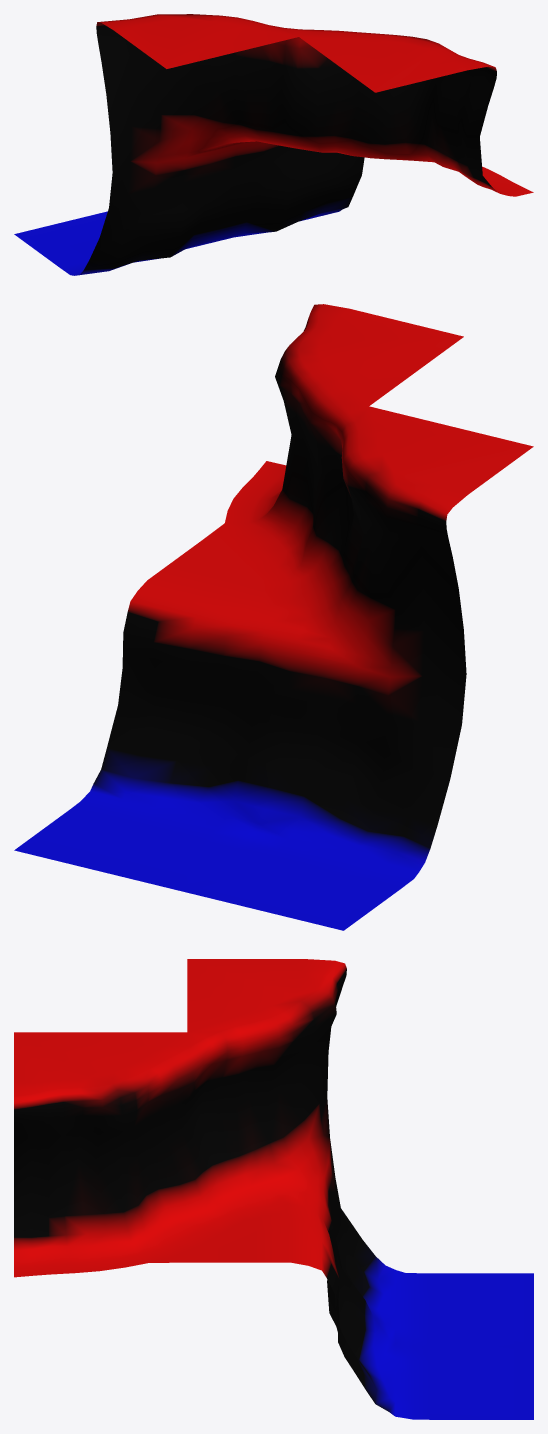
The model's file is RiveCliffToCliff 1x2x1 Background.fbx.
The picture shows the model from 3 angles, top to bottom: view 1: azimuth 30°, elevation 25°; view 2: azimuth 150°, elevation 25°; view 3: azimuth 270°, elevation 25°; orthographic projection. The views are drawn at different scales.
Parts seen in each view (by area): view 1: RiveCliffToCliff 1x2x1 Background; view 2: RiveCliffToCliff 1x2x1 Background; view 3: RiveCliffToCliff 1x2x1 Background.
Part boxes in pixels (left/top/right/bottom): RiveCliffToCliff 1x2x1 Background: left=14, top=14, right=533, bottom=275; RiveCliffToCliff 1x2x1 Background: left=14, top=304, right=533, bottom=930; RiveCliffToCliff 1x2x1 Background: left=14, top=959, right=533, bottom=1419.
Bounding box in the file's own units: 2.2 × 2 × 3.
